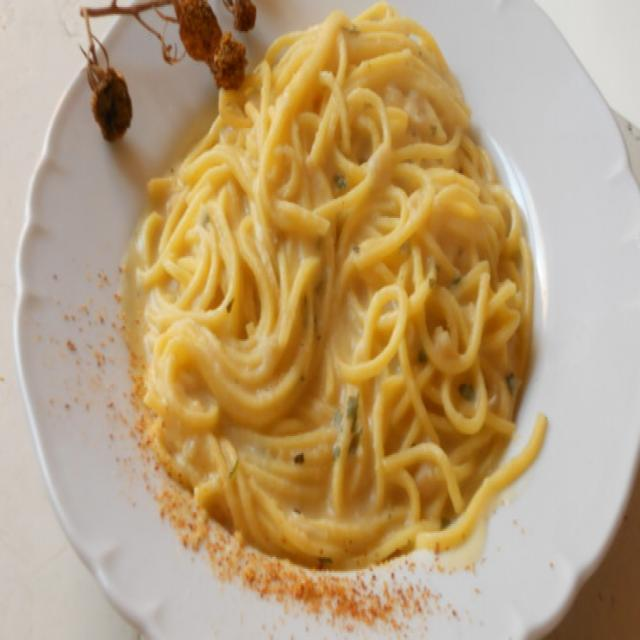Oil pasta: (108, 49, 548, 547)
